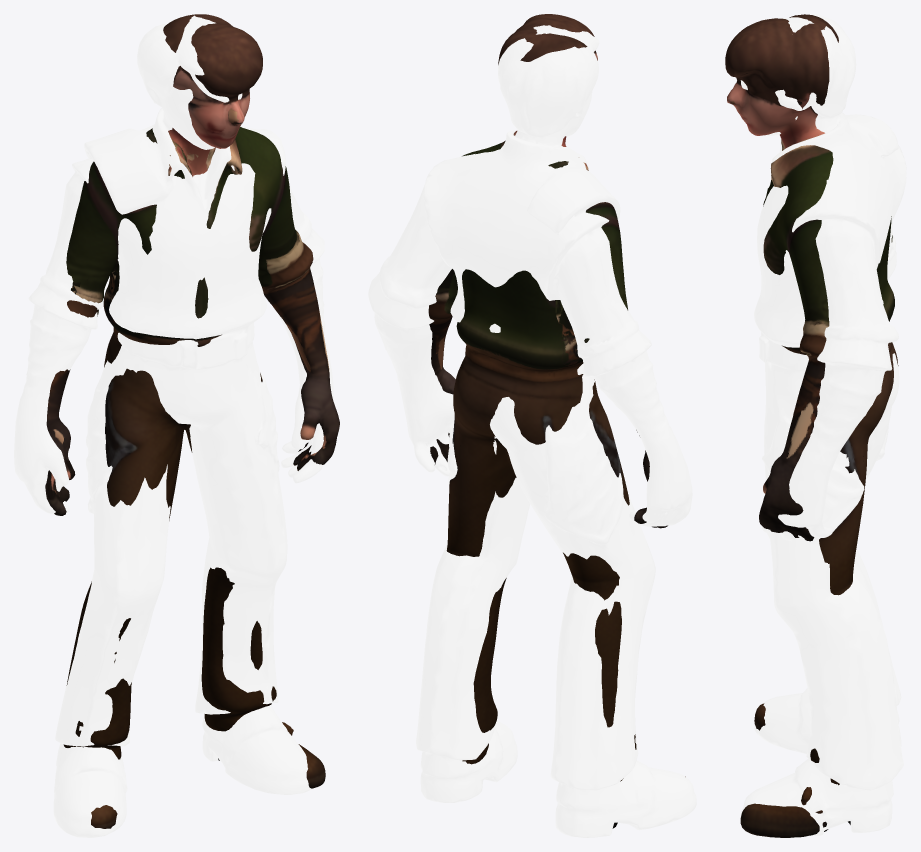
File: hunter_wrapped.glb
3 renders of one model, left to right at view 1: azimuth 30°, elevation 25°; view 2: azimuth 150°, elevation 25°; view 3: azimuth 270°, elevation 25°, orthographic. The views are drawn at different scales.
Visible parts, largest first — view 1: Outfit, Body; view 2: Outfit, Body; view 3: Outfit, Body.
Part boxes in pixels (<box>): Outfit: <box>14,14,333,837</box>; Body: <box>45,14,339,828</box>; Outfit: <box>368,25,696,837</box>; Body: <box>428,14,685,828</box>; Outfit: <box>740,14,906,835</box>; Body: <box>725,14,898,837</box>.
Size of the model in its own units: 0.7769 by 1.85 by 0.3969.
Materials: 2 (1 with a texture image).
